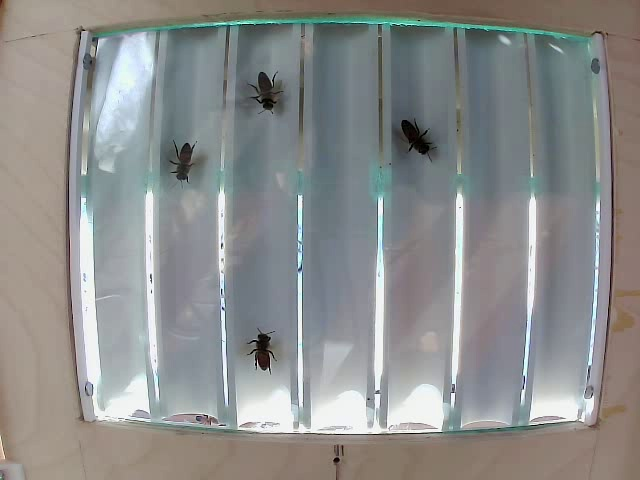bee: (385, 109, 437, 173), (243, 74, 286, 109), (159, 145, 193, 187), (248, 331, 281, 370)
